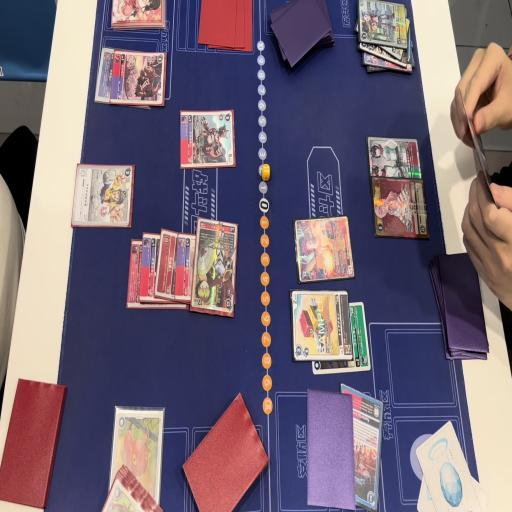card: (111, 407, 164, 512), (340, 381, 382, 512), (190, 221, 237, 322), (288, 289, 351, 363), (69, 163, 134, 231), (312, 302, 370, 378), (296, 213, 354, 284), (178, 108, 236, 172), (371, 176, 427, 240), (110, 52, 168, 110), (367, 134, 421, 186), (358, 0, 408, 48), (154, 230, 178, 302), (138, 228, 158, 309), (173, 229, 193, 307), (92, 49, 119, 106), (126, 238, 143, 315), (362, 53, 417, 75)
